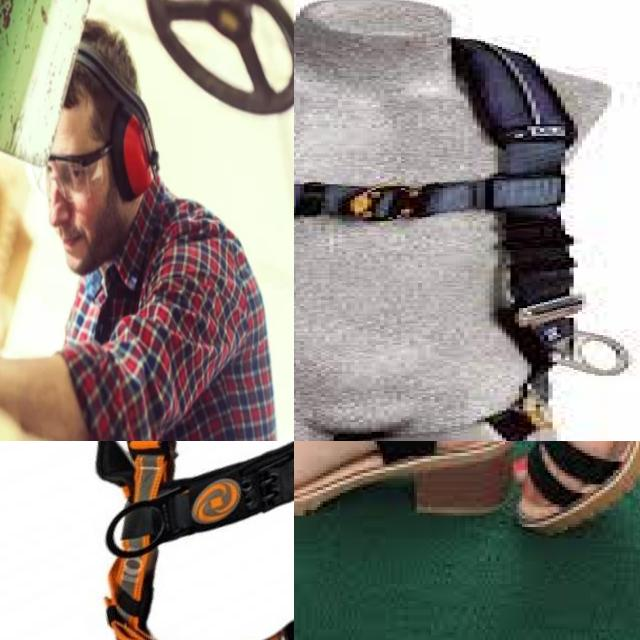Ear-protection: (109, 100, 152, 200)
Harness: (294, 39, 640, 441), (96, 441, 294, 640)
Sandals: (294, 441, 517, 525)
glasses: (22, 135, 107, 204)
person: (0, 0, 287, 441)
